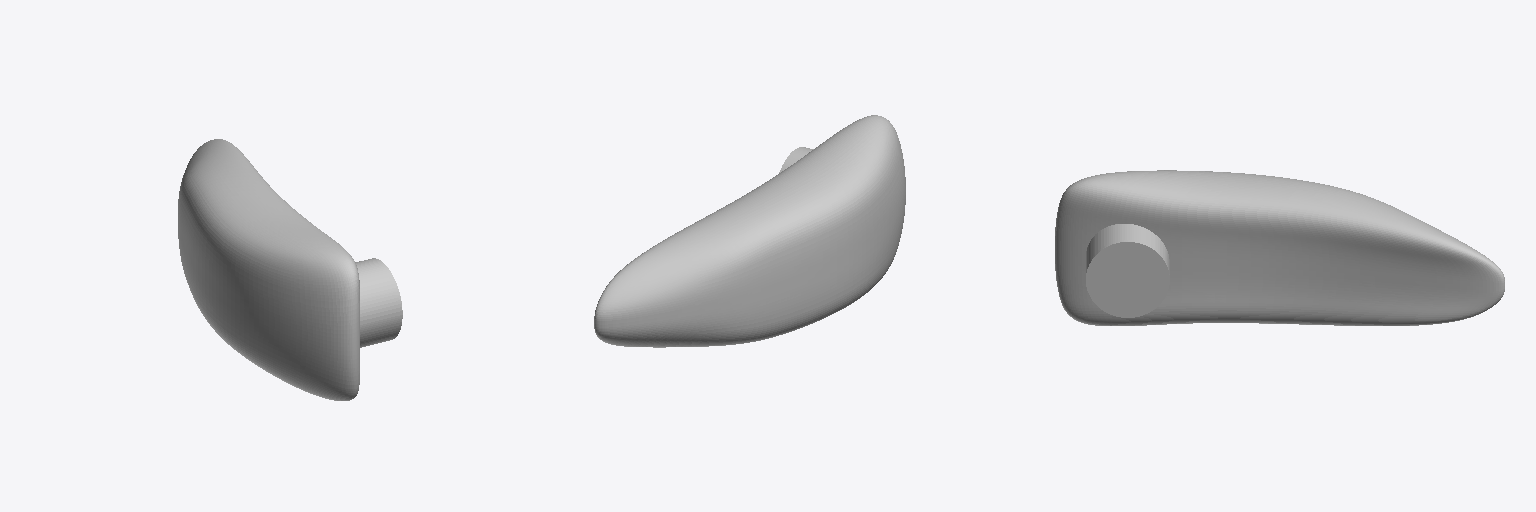
Rendered from eve_arm_right.obj.
The picture shows the model from 3 angles: view 1: azimuth 30°, elevation 25°; view 2: azimuth 150°, elevation 25°; view 3: azimuth 270°, elevation 25°; orthographic projection.
Visible parts, largest first — view 1: Right_Arm; view 2: Right_Arm; view 3: Right_Arm.
Boxes of the visible parts, <box> form: Right_Arm: <box>178,139,402,400</box>; Right_Arm: <box>594,115,905,347</box>; Right_Arm: <box>1055,170,1504,325</box>.
Size of the model in its own units: 0.1749 by 0.191 by 0.5354.